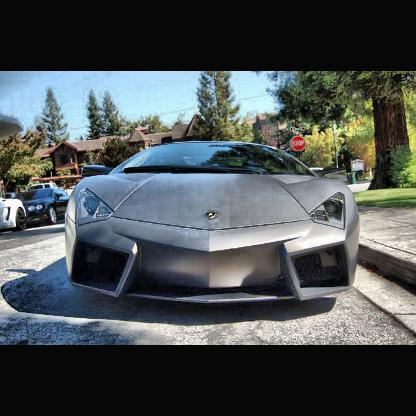Lamborghini Reventon Coupe 2008: (66, 142, 360, 305)
